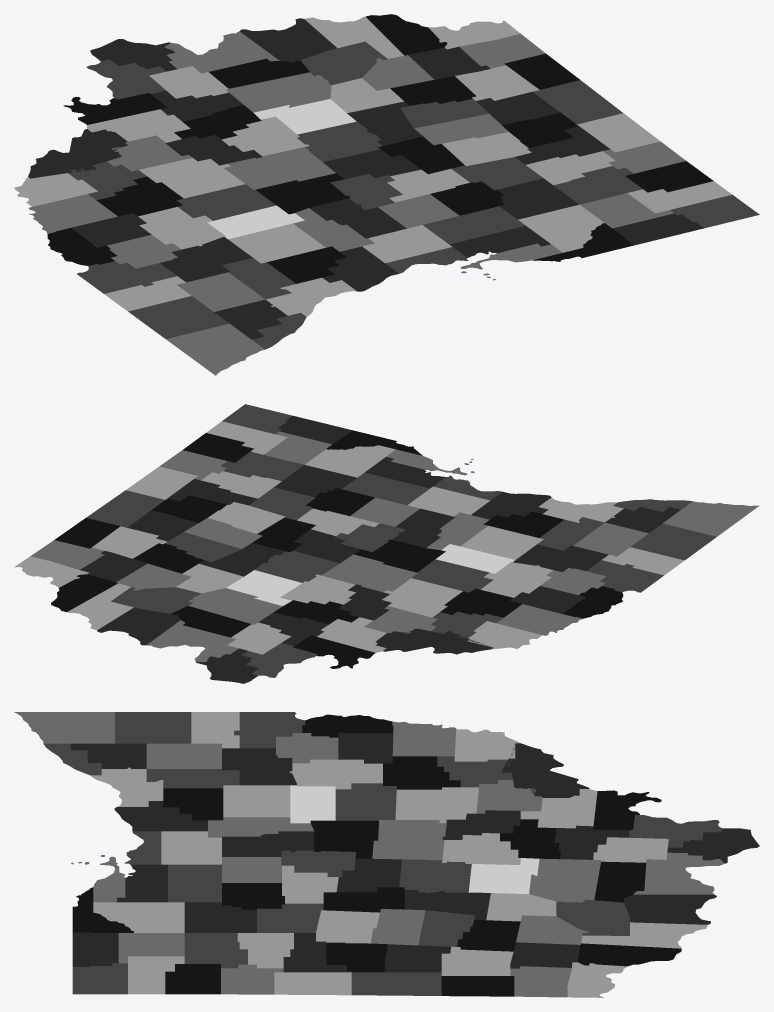
Rendered from Ohio_Counties_2D.fbx.
3 renders of one model, top to bottom at view 1: azimuth 30°, elevation 25°; view 2: azimuth 150°, elevation 25°; view 3: azimuth 270°, elevation 25°, orthographic. The views are drawn at different scales.
Visible parts, largest first — view 1: OH_Licking_County_2D, OH_Ashtabula_County_2D, OH_Ross_County_2D, OH_Washington_County_2D, OH_Muskingum_County_2D, OH_Trumbull_County_2D, OH_Scioto_County_2D, OH_Wood_County_2D, OH_Stark_County_2D, OH_Adams_County_2D, OH_Tuscarawas_County_2D, OH_Franklin_County_2D (+76 smaller); view 2: OH_Licking_County_2D, OH_Ashtabula_County_2D, OH_Ross_County_2D, OH_Washington_County_2D, OH_Muskingum_County_2D, OH_Trumbull_County_2D, OH_Scioto_County_2D, OH_Wood_County_2D, OH_Stark_County_2D, OH_Adams_County_2D, OH_Tuscarawas_County_2D, OH_Highland_County_2D (+76 smaller); view 3: OH_Licking_County_2D, OH_Ashtabula_County_2D, OH_Ross_County_2D, OH_Washington_County_2D, OH_Muskingum_County_2D, OH_Trumbull_County_2D, OH_Scioto_County_2D, OH_Wood_County_2D, OH_Adams_County_2D, OH_Tuscarawas_County_2D, OH_Stark_County_2D, OH_Wayne_County_2D (+76 smaller).
Boxes of the visible parts, x1,y1,x2,y2 form: OH_Licking_County_2D: (224, 147, 335, 189); OH_Ashtabula_County_2D: (166, 323, 264, 375); OH_Ross_County_2D: (226, 72, 331, 112); OH_Washington_County_2D: (28, 129, 127, 178); OH_Muskingum_County_2D: (139, 158, 245, 198); OH_Trumbull_County_2D: (128, 296, 229, 338); OH_Scioto_County_2D: (164, 31, 279, 73); OH_Wood_County_2D: (518, 204, 604, 252); OH_Stark_County_2D: (160, 237, 252, 282); OH_Adams_County_2D: (239, 18, 336, 62); OH_Tuscarawas_County_2D: (138, 207, 225, 249); OH_Franklin_County_2D: (297, 121, 382, 161); OH_Licking_County_2D: (321, 554, 417, 592); OH_Ashtabula_County_2D: (663, 501, 759, 536); OH_Ross_County_2D: (188, 588, 282, 624); OH_Washington_County_2D: (375, 628, 493, 654); OH_Muskingum_County_2D: (382, 578, 462, 617); OH_Trumbull_County_2D: (630, 523, 716, 560); OH_Scioto_County_2D: (147, 620, 238, 661); OH_Wood_County_2D: (305, 445, 395, 477); OH_Stark_County_2D: (513, 544, 608, 572); OH_Adams_County_2D: (97, 607, 180, 645); OH_Tuscarawas_County_2D: (480, 562, 552, 597); OH_Highland_County_2D: (111, 587, 200, 613); OH_Licking_County_2D: (372, 820, 446, 860); OH_Ashtabula_County_2D: (14, 712, 114, 743); OH_Ross_County_2D: (529, 858, 600, 902); OH_Washington_County_2D: (501, 743, 589, 797); OH_Muskingum_County_2D: (395, 787, 478, 823); OH_Trumbull_County_2D: (115, 712, 191, 743); OH_Scioto_County_2D: (633, 852, 724, 894); OH_Wood_County_2D: (93, 902, 184, 932); OH_Adams_County_2D: (624, 894, 716, 924); OH_Tuscarawas_County_2D: (289, 759, 382, 789); OH_Stark_County_2D: (222, 748, 296, 785); OH_Wayne_County_2D: (223, 785, 290, 817).
Bounding box in the file's own units: 655 × 0 × 723.
